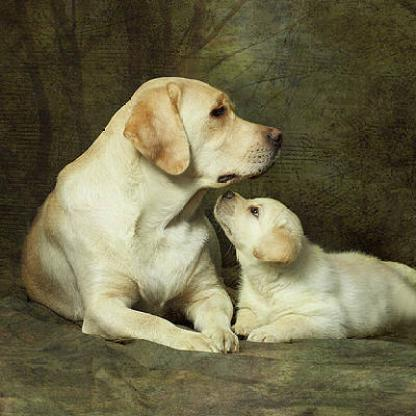dog: (20, 75, 281, 353), (207, 192, 416, 345)
